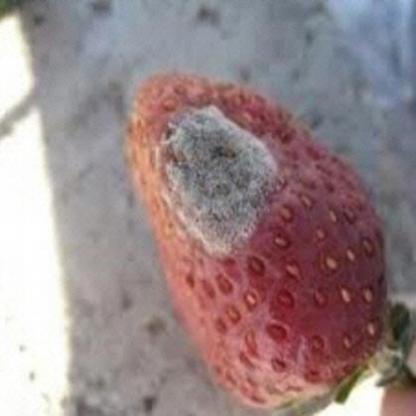Strawberry_Gray_Mold: (154, 95, 288, 262)
